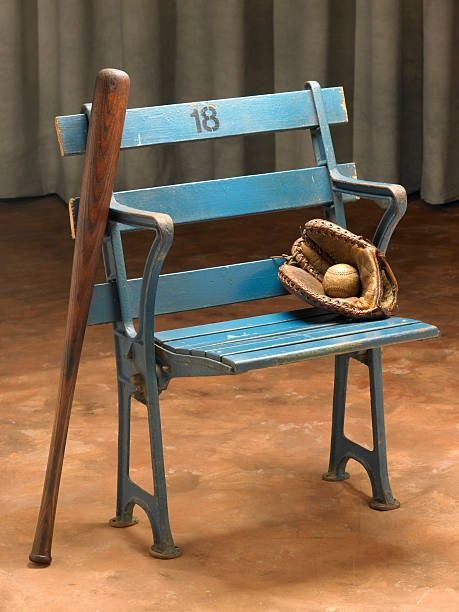bita: (38, 62, 130, 556)
